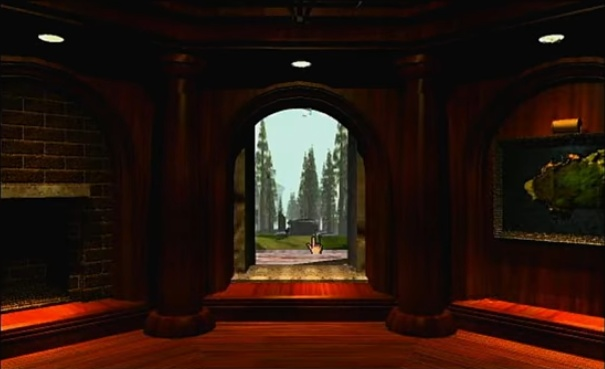Pointer: (304, 234, 326, 257)
